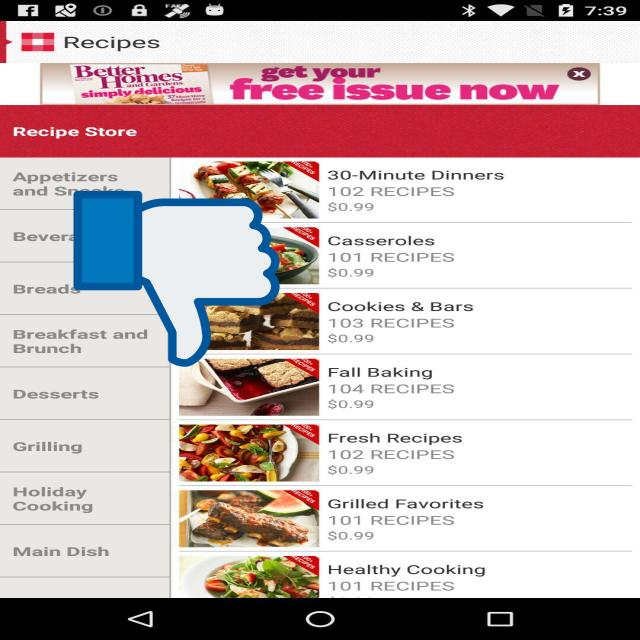obstruction: (73, 187, 280, 371)
